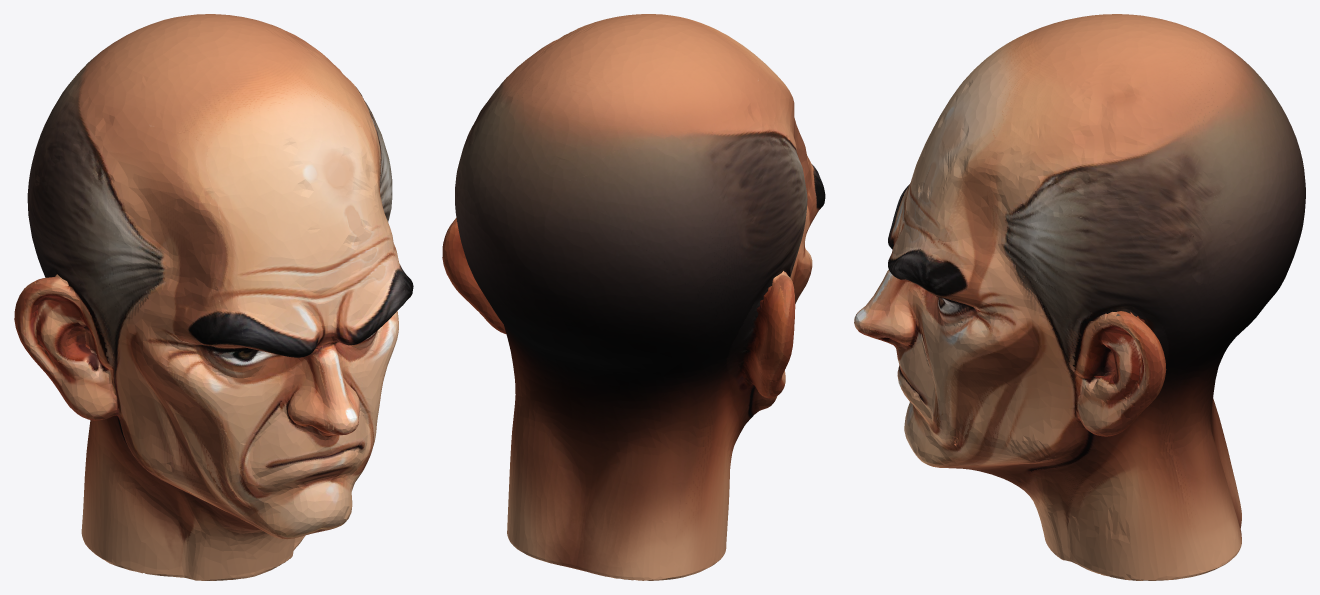
Rendered from side_tamorimonk_repaired_atlas.glb.
The picture shows the model from 3 angles, left to right: view 1: azimuth 30°, elevation 25°; view 2: azimuth 150°, elevation 25°; view 3: azimuth 270°, elevation 25°; orthographic projection. The views are drawn at different scales.
Parts seen in each view (by area): view 1: temp_mesh.ply; view 2: temp_mesh.ply; view 3: temp_mesh.ply.
Boxes of the visible parts, box(x1,y1,x2,y2) form: temp_mesh.ply: box(14, 14, 413, 580); temp_mesh.ply: box(442, 14, 825, 580); temp_mesh.ply: box(854, 14, 1305, 580).
Size of the model in its own units: 0.9059 by 1.24 by 0.9988.
1 material, 1 textured.
